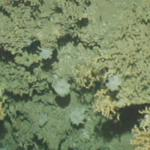alive: (1, 1, 149, 150)
